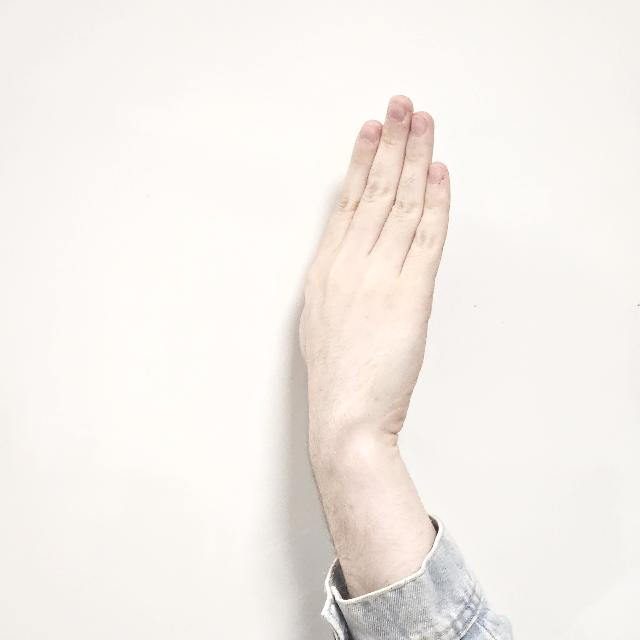Baixo: (302, 71, 454, 432)
